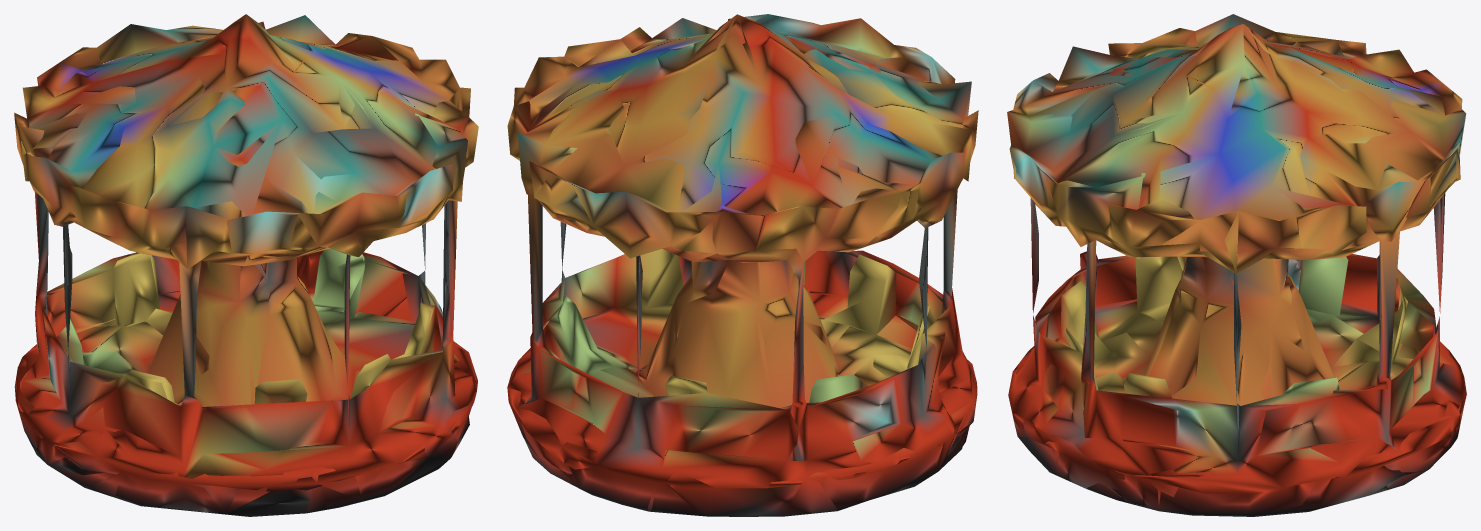
The model's file is gen3d-carousel-lod0.glb.
The picture shows the model from 3 angles, left to right: view 1: azimuth 30°, elevation 25°; view 2: azimuth 150°, elevation 25°; view 3: azimuth 270°, elevation 25°; orthographic projection. The views are drawn at different scales.
Visible parts, largest first — view 1: part_0; view 2: part_0; view 3: part_0.
Part boxes in pixels (x1,y1,x2,y2): part_0: (14, 14, 478, 516); part_0: (507, 14, 978, 516); part_0: (1007, 14, 1466, 516).
Bounding box in the file's own units: 1.02 × 0.9883 × 1.02.
